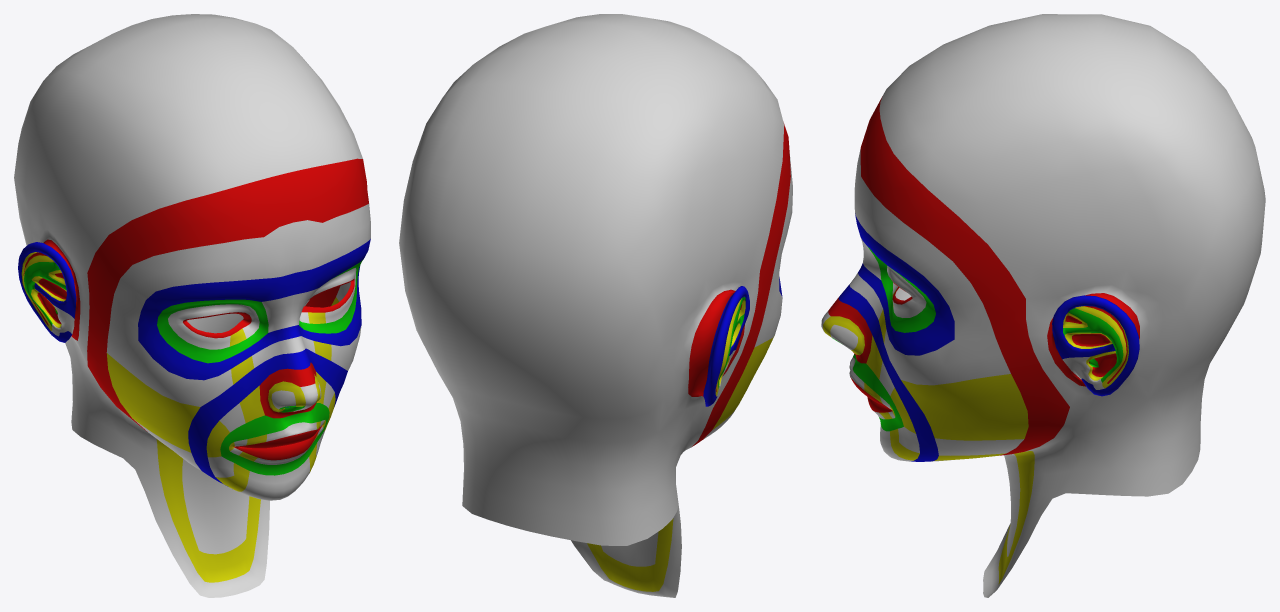
Rendered from female_head _3.glb.
3 views of the same model, side by side, from view 1: azimuth 30°, elevation 25°; view 2: azimuth 150°, elevation 25°; view 3: azimuth 270°, elevation 25° (orthographic). The views are drawn at different scales.
Parts seen in each view (by area): view 1: Eve; view 2: Eve; view 3: Eve.
Part boxes in pixels (x1,y1,x2,y2): Eve: (14, 14, 370, 597); Eve: (399, 14, 792, 597); Eve: (821, 14, 1265, 597).
Size of the model in its own units: 0.5323 by 0.9348 by 0.6769.
